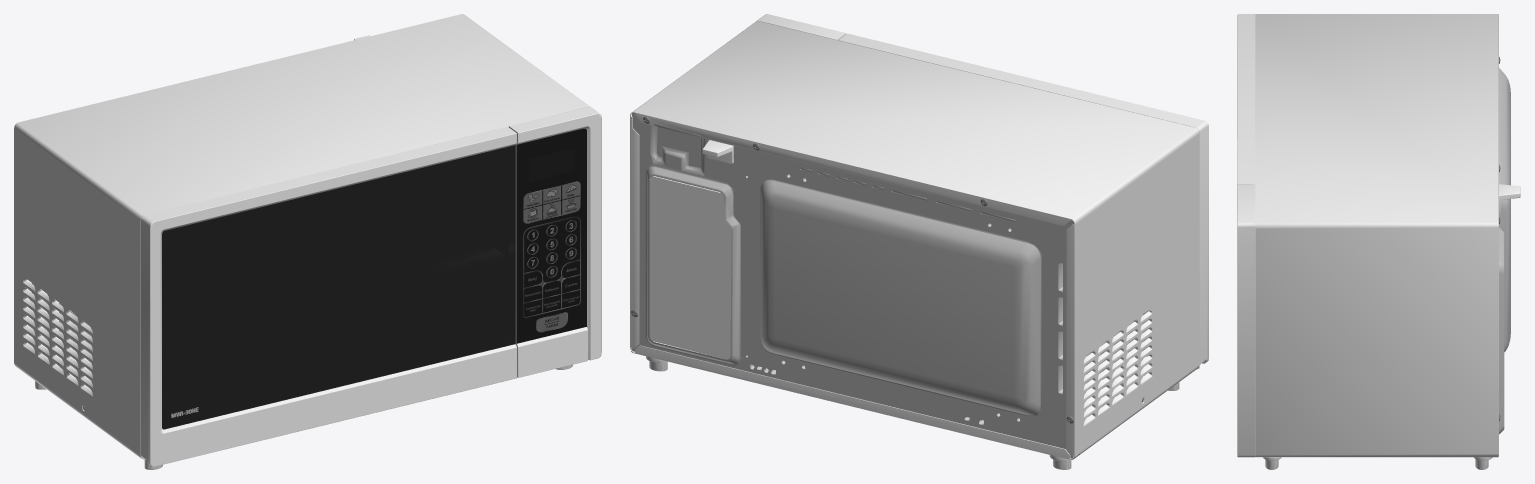
File: microwave.glb
The picture shows the model from 3 angles, left to right: view 1: azimuth 30°, elevation 25°; view 2: azimuth 150°, elevation 25°; view 3: azimuth 270°, elevation 25°; orthographic projection. The views are drawn at different scales.
Parts seen in each view (by area): view 1: Obj3d66-17951767-282-823, Obj3d66-17951767-299-246, Obj3d66-17951767-297-873, Obj3d66-17951767-290-692, Obj3d66-17951767-293-970, Obj3d66-17951767-285-894, Obj3d66-17951767-280-140, Obj3d66-17951767-296-421; view 2: Obj3d66-17951767-282-823, Obj3d66-17951767-289-635, Obj3d66-17951767-300-260, Obj3d66-17951767-293-970, Obj3d66-17951767-296-421, Obj3d66-17951767-286-7; view 3: Obj3d66-17951767-282-823, Obj3d66-17951767-296-421, Obj3d66-17951767-289-635, Obj3d66-17951767-293-970, Obj3d66-17951767-297-873, Obj3d66-17951767-278-198.
Boxes of the visible parts, left/top/right/bottom form: Obj3d66-17951767-282-823: left=14, top=14, right=589, bottom=459; Obj3d66-17951767-299-246: left=162, top=145, right=515, bottom=429; Obj3d66-17951767-297-873: left=150, top=113, right=601, bottom=466; Obj3d66-17951767-290-692: left=516, top=128, right=586, bottom=343; Obj3d66-17951767-293-970: left=141, top=126, right=516, bottom=465; Obj3d66-17951767-285-894: left=160, top=144, right=516, bottom=432; Obj3d66-17951767-280-140: left=517, top=126, right=590, bottom=360; Obj3d66-17951767-296-421: left=509, top=107, right=599, bottom=377; Obj3d66-17951767-282-823: left=630, top=21, right=1199, bottom=459; Obj3d66-17951767-289-635: left=631, top=113, right=1073, bottom=458; Obj3d66-17951767-300-260: left=649, top=176, right=731, bottom=359; Obj3d66-17951767-293-970: left=839, top=33, right=1208, bottom=363; Obj3d66-17951767-296-421: left=757, top=14, right=846, bottom=40; Obj3d66-17951767-286-7: left=838, top=40, right=1206, bottom=363; Obj3d66-17951767-282-823: left=1255, top=14, right=1498, bottom=457; Obj3d66-17951767-296-421: left=1237, top=184, right=1255, bottom=457; Obj3d66-17951767-289-635: left=1498, top=68, right=1510, bottom=434; Obj3d66-17951767-293-970: left=1237, top=14, right=1255, bottom=184; Obj3d66-17951767-297-873: left=1237, top=15, right=1237, bottom=456; Obj3d66-17951767-278-198: left=1499, top=184, right=1520, bottom=212.
Size of the model in its own units: 0.5946 by 0.3299 by 0.3361.
Materials: 6 (2 with a texture image).
